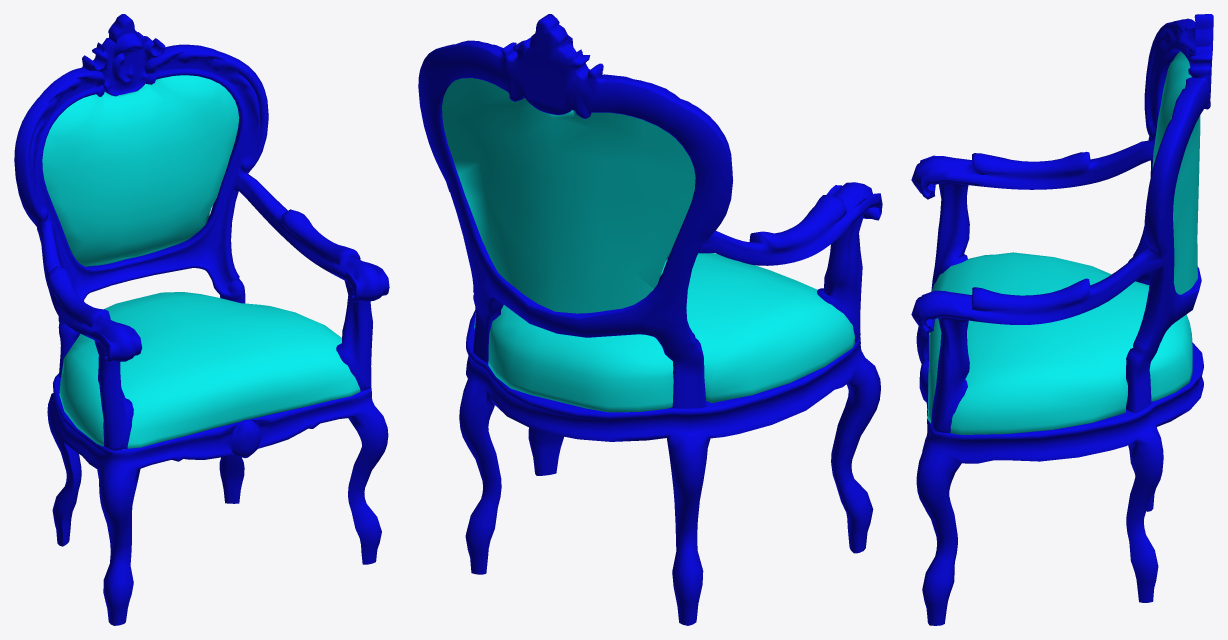
The model's file is LPChair.fbx.
3 views of the same model, side by side, from view 1: azimuth 30°, elevation 25°; view 2: azimuth 150°, elevation 25°; view 3: azimuth 270°, elevation 25° (orthographic). The views are drawn at different scales.
Visible parts, largest first — view 1: a_top, a_padding01, a_padding00, a_base; view 2: a_top, a_padding00, a_padding01, a_base; view 3: a_top, a_padding01, a_base, a_padding00.
Part boxes in pixels (x1=…): a_top: x1=14, y1=14, x2=389, y2=450; a_padding01: x1=59, y1=292, x2=360, y2=449; a_padding00: x1=42, y1=75, x2=239, y2=266; a_base: x1=47, y1=373, x2=388, y2=625; a_top: x1=418, y1=14, x2=882, y2=408; a_padding00: x1=442, y1=78, x2=695, y2=313; a_padding01: x1=474, y1=253, x2=854, y2=412; a_base: x1=459, y1=309, x2=880, y2=625; a_top: x1=911, y1=14, x2=1213, y2=433; a_padding01: x1=927, y1=252, x2=1192, y2=434; a_base: x1=916, y1=326, x2=1203, y2=625; a_padding00: x1=1152, y1=51, x2=1200, y2=294.
Size of the model in its own units: 76.31 by 125 by 63.23.
